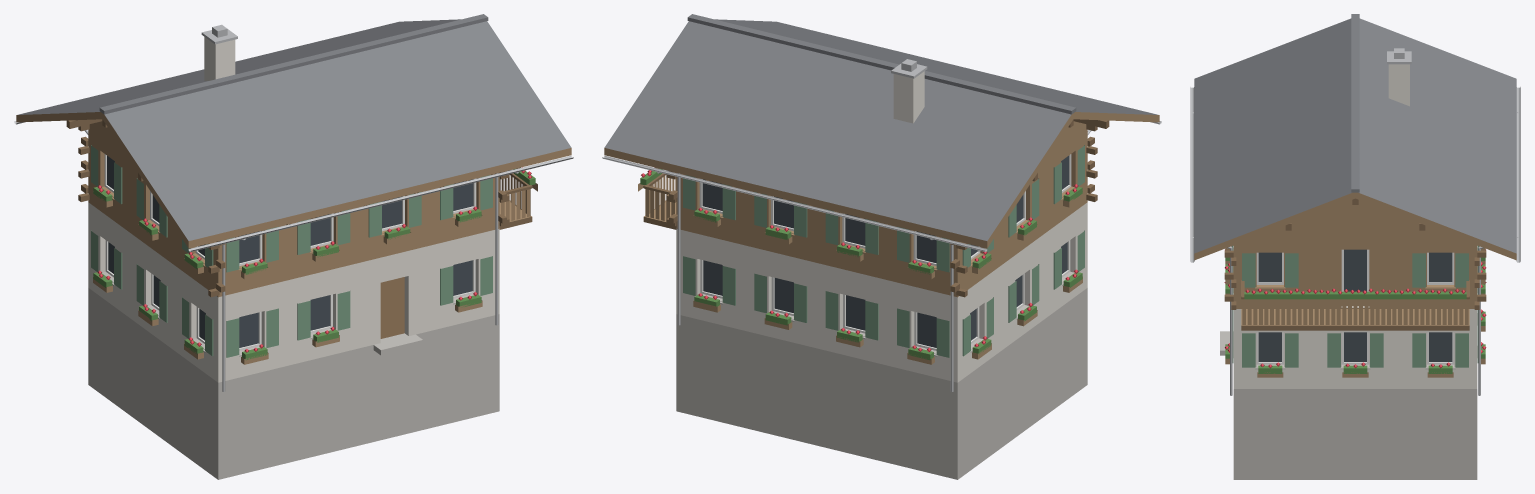
The model's file is chalet_2_s.glb.
3 views of the same model, side by side, from view 1: azimuth 30°, elevation 25°; view 2: azimuth 150°, elevation 25°; view 3: azimuth 270°, elevation 25° (orthographic). The views are drawn at different scales.
Parts seen in each view (by area): view 1: chalet_2_s; view 2: chalet_2_s; view 3: chalet_2_s.
Part boxes in pixels (left/top/right/bottom): chalet_2_s: left=14, top=14, right=573, bottom=479; chalet_2_s: left=602, top=14, right=1161, bottom=479; chalet_2_s: left=1190, top=14, right=1520, bottom=479.
Size of the model in its own units: 13.64 by 12.4 by 10.86.
